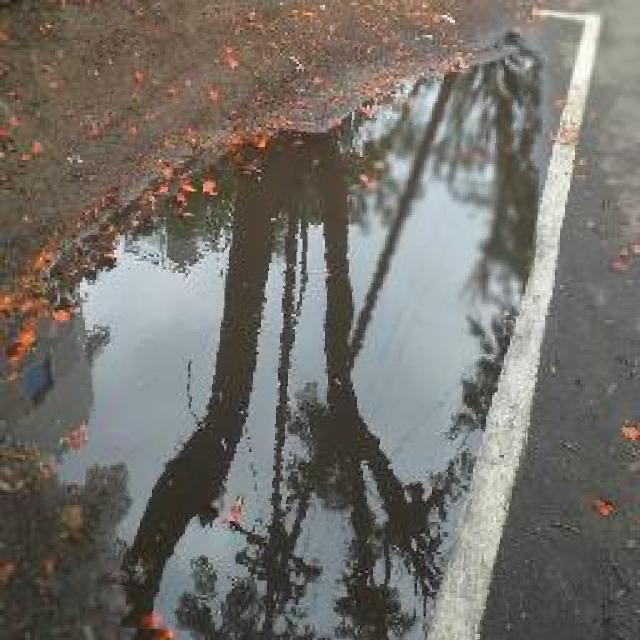puddle: (87, 34, 540, 640)
